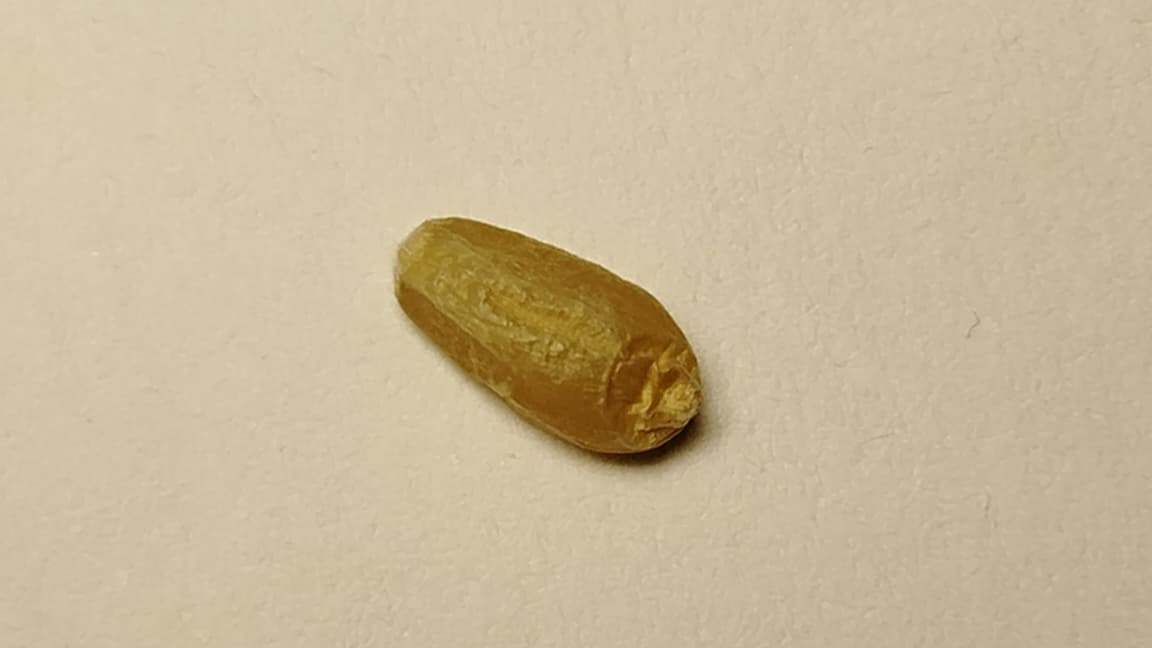healthy: (395, 217, 702, 455)
